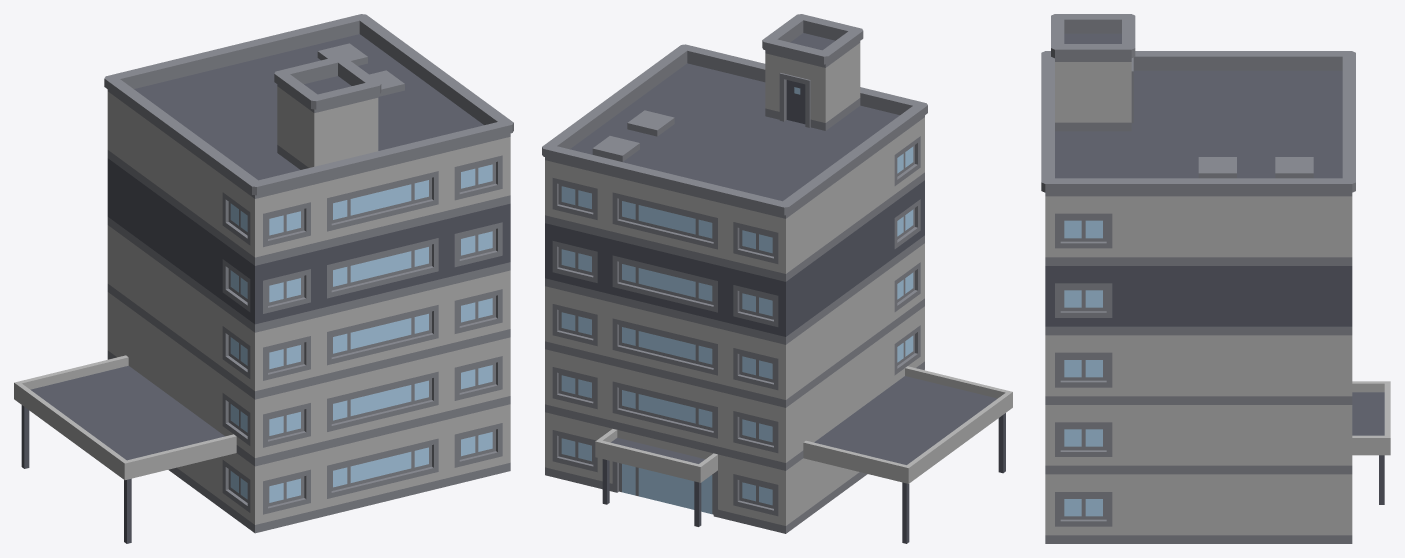
Rendered from large_buildingG.fbx.
3 views of the same model, side by side, from view 1: azimuth 30°, elevation 25°; view 2: azimuth 150°, elevation 25°; view 3: azimuth 270°, elevation 25° (orthographic). The views are drawn at different scales.
Visible parts, largest first — view 1: large_buildingG; view 2: large_buildingG; view 3: large_buildingG.
Boxes of the visible parts, x1,y1,x2,y2 form: large_buildingG: [14, 14, 513, 543]; large_buildingG: [542, 14, 1012, 543]; large_buildingG: [1041, 14, 1390, 543].
Bounding box in the file's own units: 23.2 × 24.8 × 18.2.
